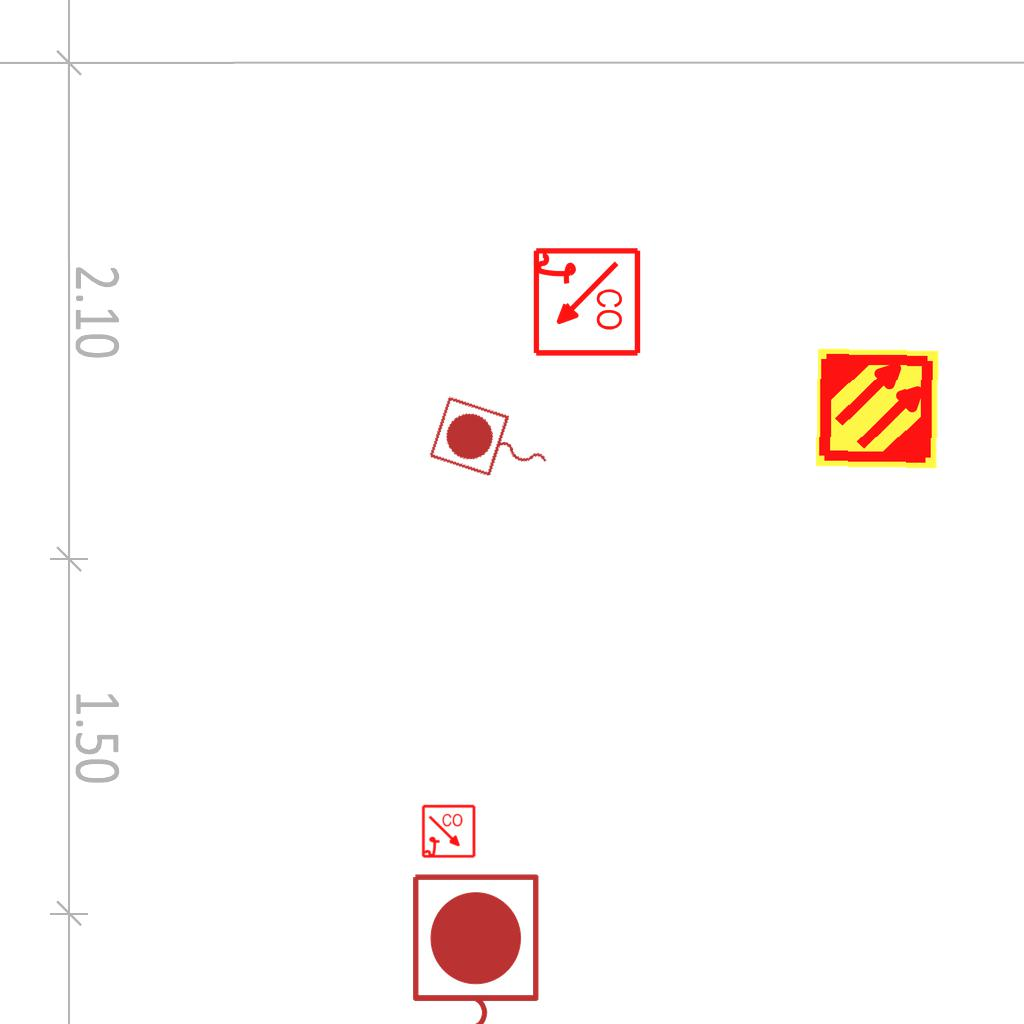ASR_Ansaugrauchmelder: (813, 344, 942, 473)
ROA_Rauchmelder_optisch_mit_Signalgeber_(Sockelsirene): (529, 246, 642, 359), (421, 804, 477, 860)
Zugtaster: (402, 866, 546, 1024), (423, 391, 563, 499)
